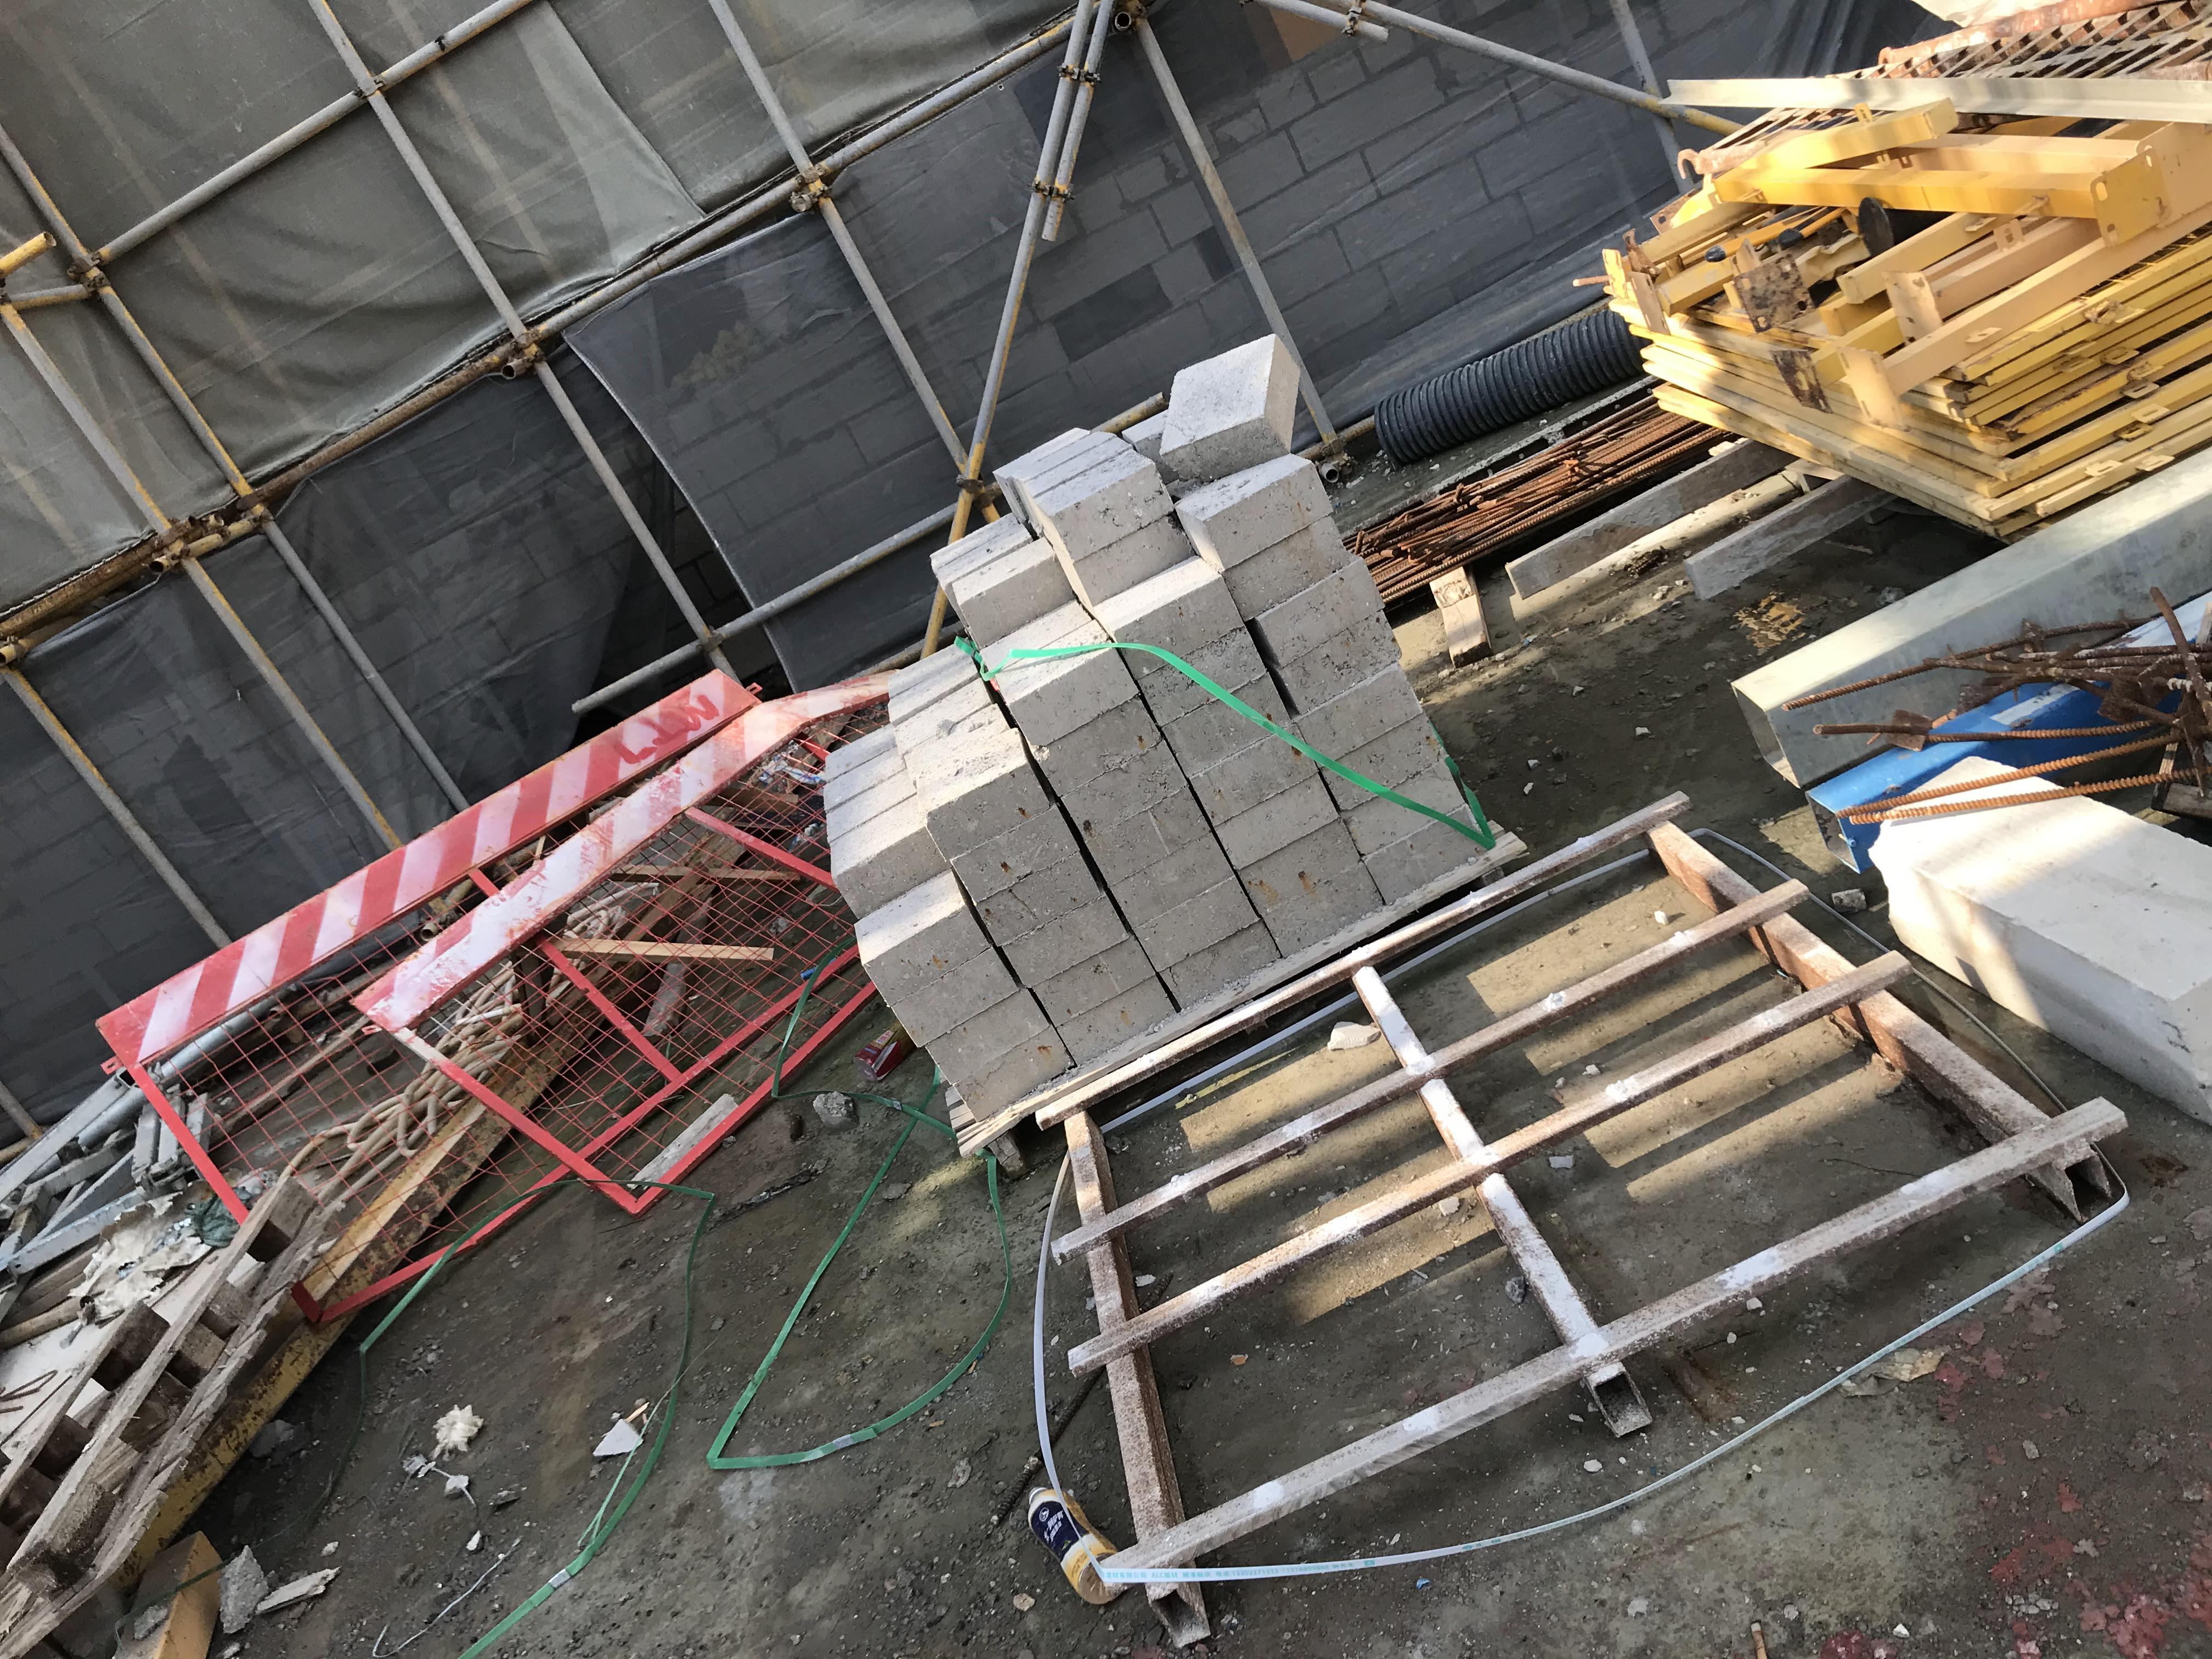brick: (813, 343, 1491, 1117)
